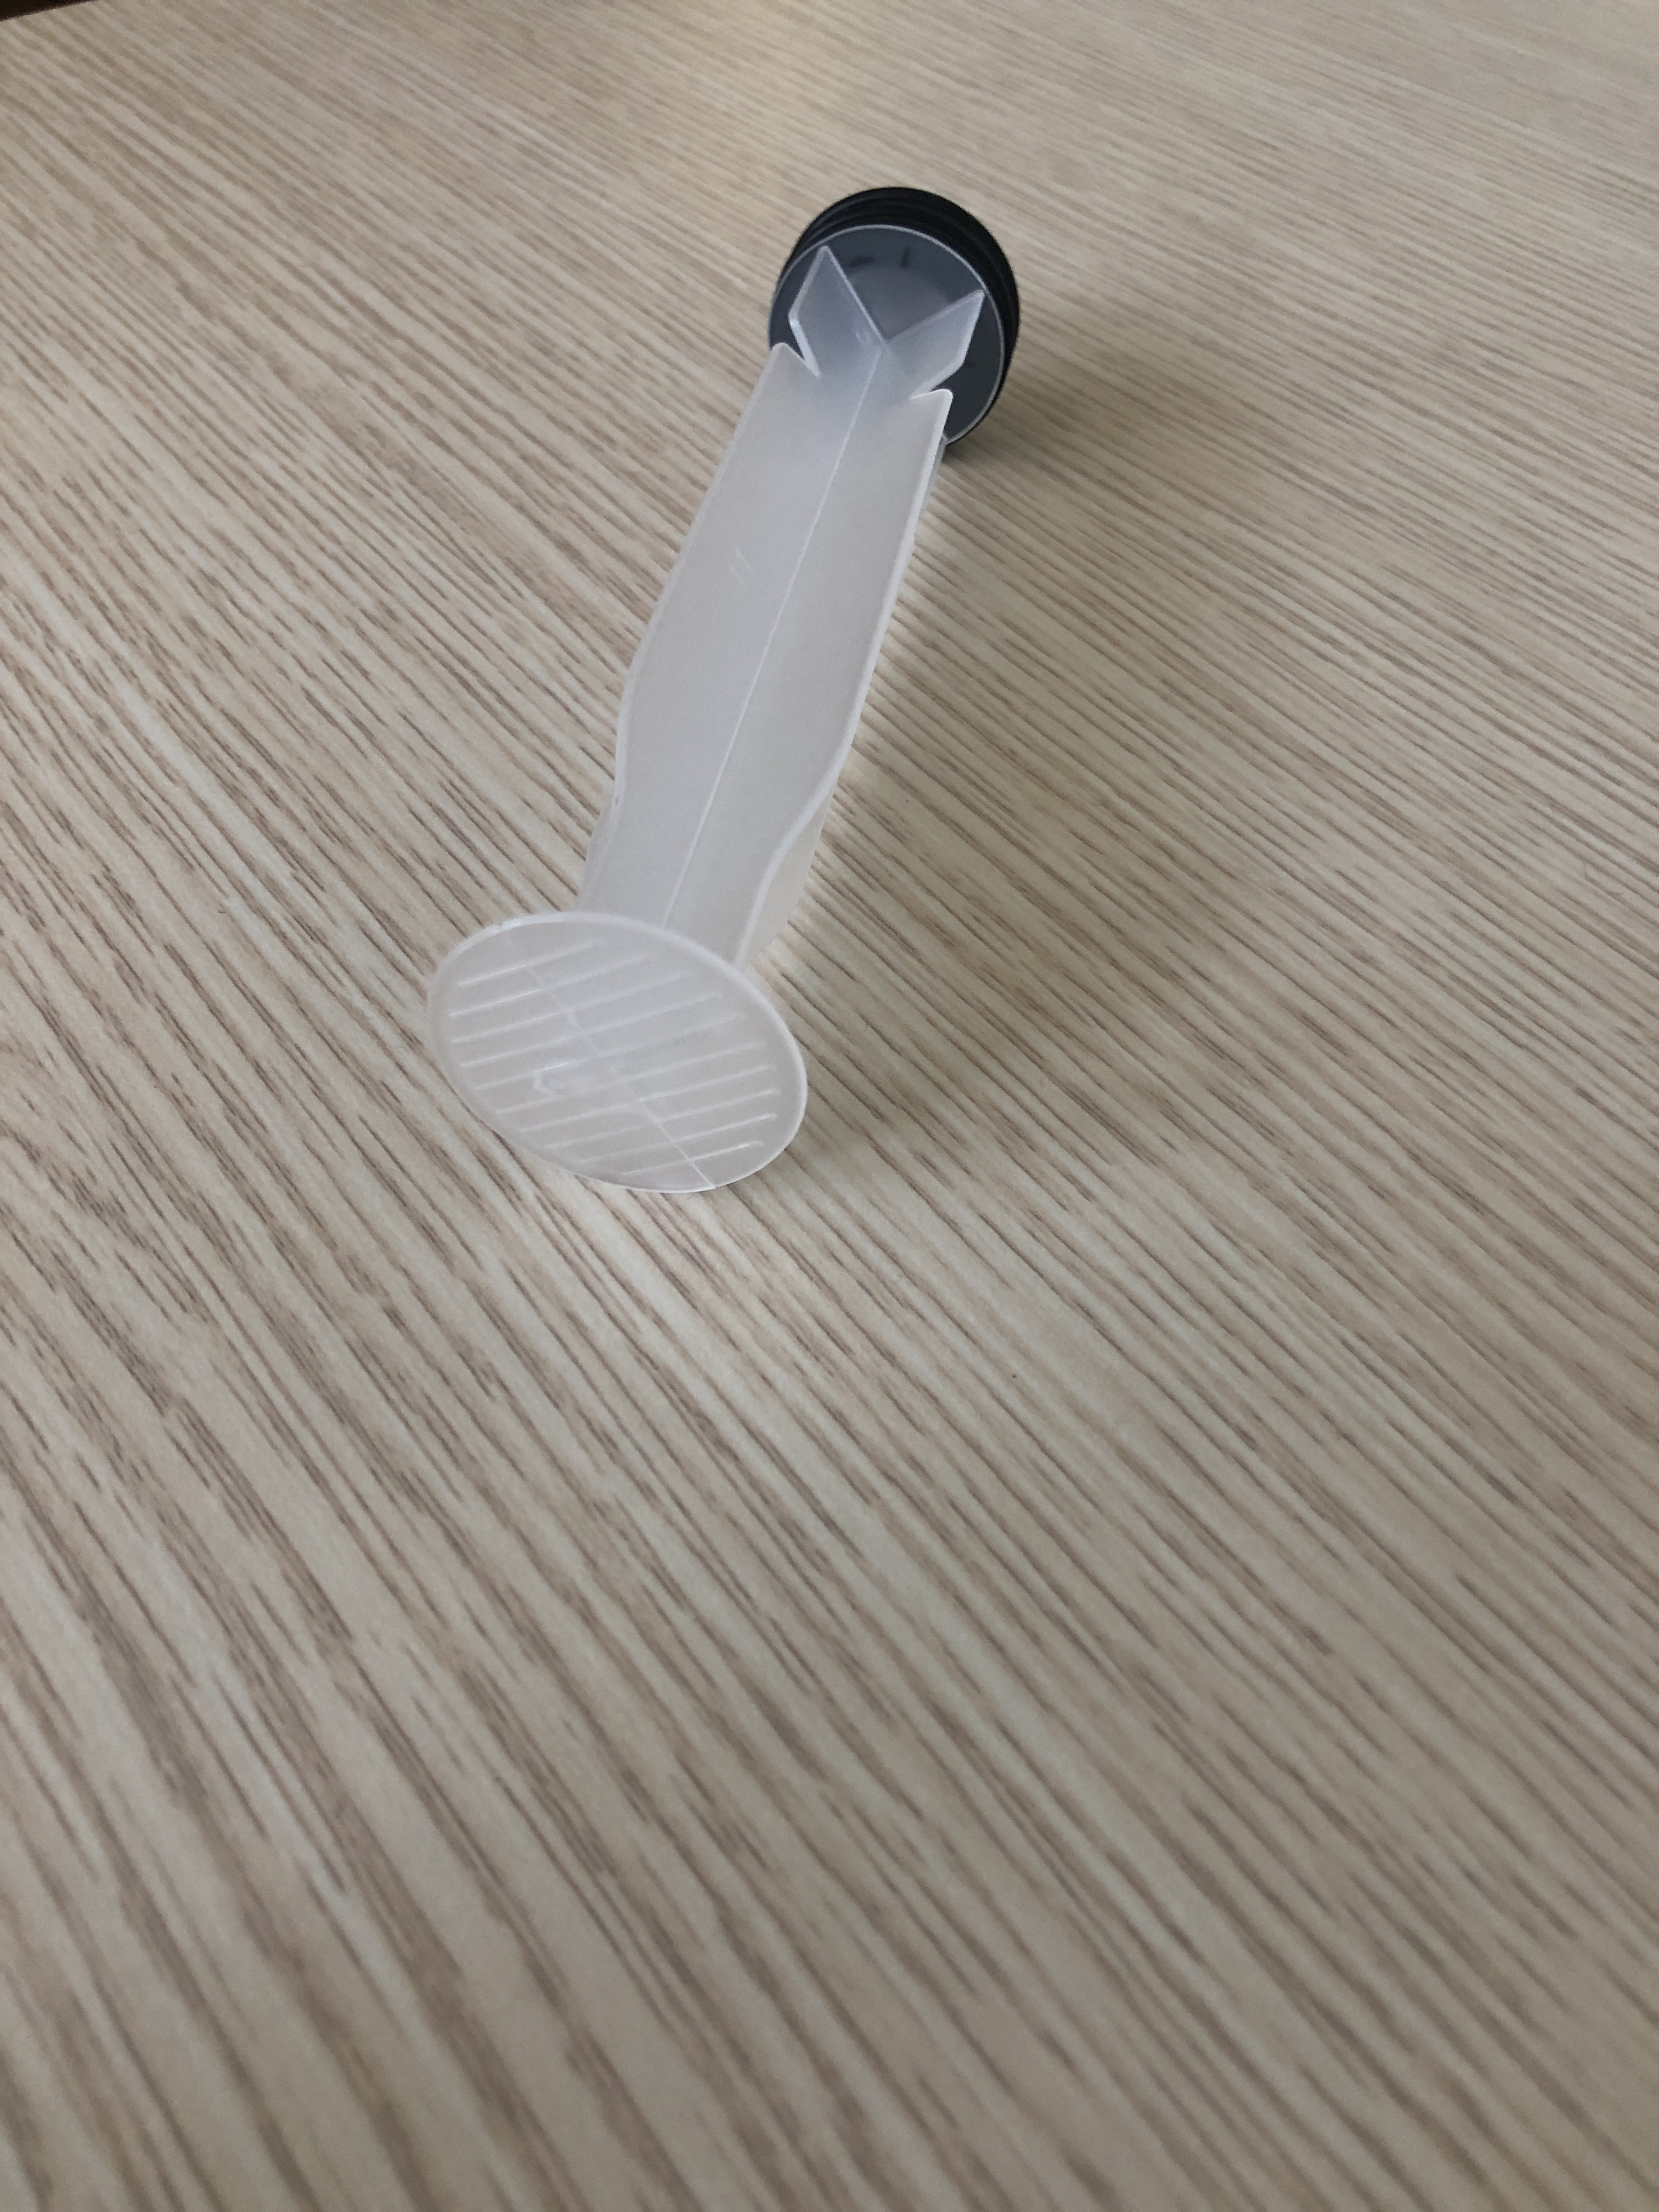plunger: (413, 172, 1037, 1184)
